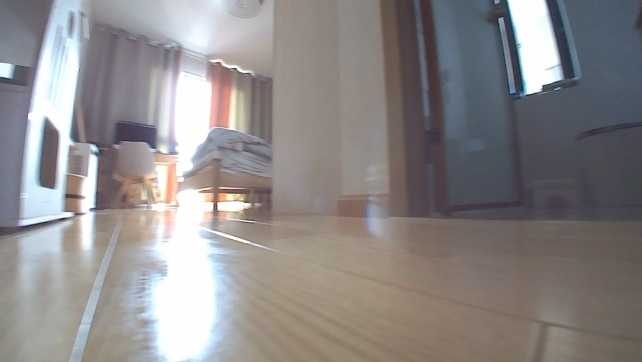bed1: (175, 125, 272, 214)
door_anno: (380, 0, 525, 215)
toilet: (574, 116, 640, 208)
